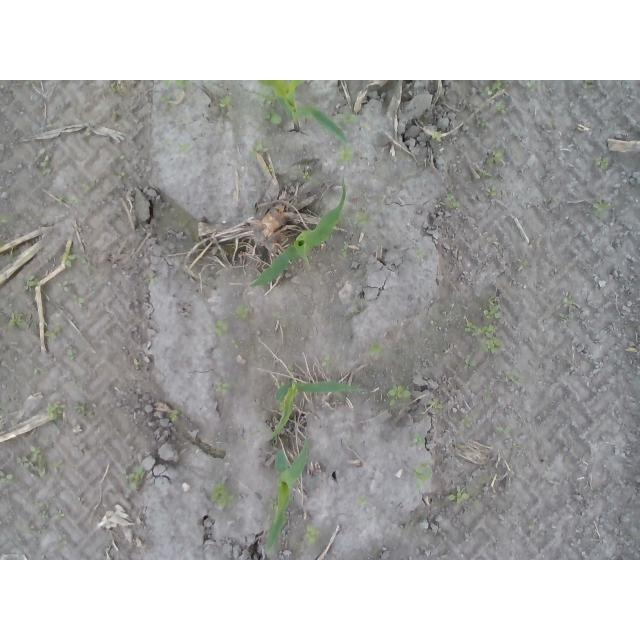Maize: (250, 177, 347, 291), (268, 376, 375, 443), (257, 80, 348, 146), (265, 439, 311, 554)
Weeds: (14, 446, 50, 478), (207, 480, 237, 511), (387, 384, 413, 408), (125, 464, 146, 493), (60, 249, 88, 270), (48, 399, 65, 433), (464, 319, 496, 337), (213, 96, 236, 120), (447, 486, 473, 507), (261, 107, 283, 130), (480, 81, 513, 96), (415, 463, 434, 489), (335, 111, 361, 129), (483, 296, 502, 320), (485, 149, 505, 168), (6, 310, 26, 329), (334, 145, 355, 163), (479, 336, 501, 352), (304, 525, 322, 544), (39, 154, 54, 176), (55, 194, 81, 206), (592, 197, 609, 215), (503, 368, 521, 385), (214, 319, 231, 337), (231, 303, 249, 320), (23, 273, 41, 290), (368, 342, 385, 358), (258, 89, 275, 105), (160, 80, 190, 89), (34, 505, 51, 520), (250, 144, 271, 156), (463, 352, 478, 368), (410, 432, 425, 448), (0, 469, 16, 484), (447, 192, 461, 209), (594, 157, 609, 172), (54, 279, 70, 293), (429, 400, 446, 413), (352, 212, 369, 225), (111, 168, 129, 180), (562, 291, 576, 306), (177, 140, 193, 153), (528, 80, 545, 92), (50, 459, 64, 473), (215, 381, 233, 391), (158, 95, 174, 106), (339, 240, 349, 257), (44, 327, 61, 337), (432, 130, 445, 143), (495, 424, 513, 433), (72, 295, 88, 305), (146, 272, 158, 285), (495, 99, 506, 113), (320, 355, 332, 367), (0, 212, 12, 224), (463, 416, 474, 429), (79, 404, 90, 417), (486, 185, 497, 197), (301, 170, 312, 182), (82, 184, 95, 194), (67, 351, 78, 362), (113, 152, 128, 160), (168, 410, 177, 423), (579, 80, 593, 88), (477, 118, 487, 129), (415, 248, 425, 259), (231, 339, 242, 349), (356, 496, 368, 505), (46, 120, 57, 129), (478, 171, 492, 178), (110, 83, 119, 93), (55, 511, 65, 520), (287, 367, 297, 373), (279, 402, 285, 411)
